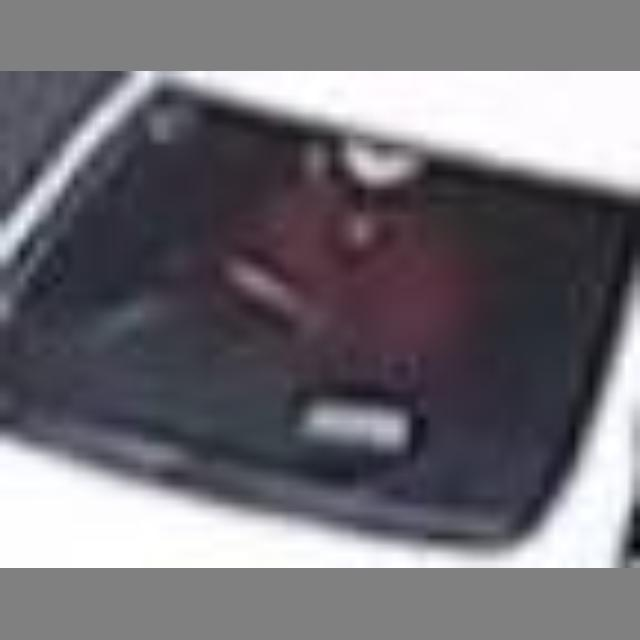tidak-pakai: (213, 142, 436, 373)
